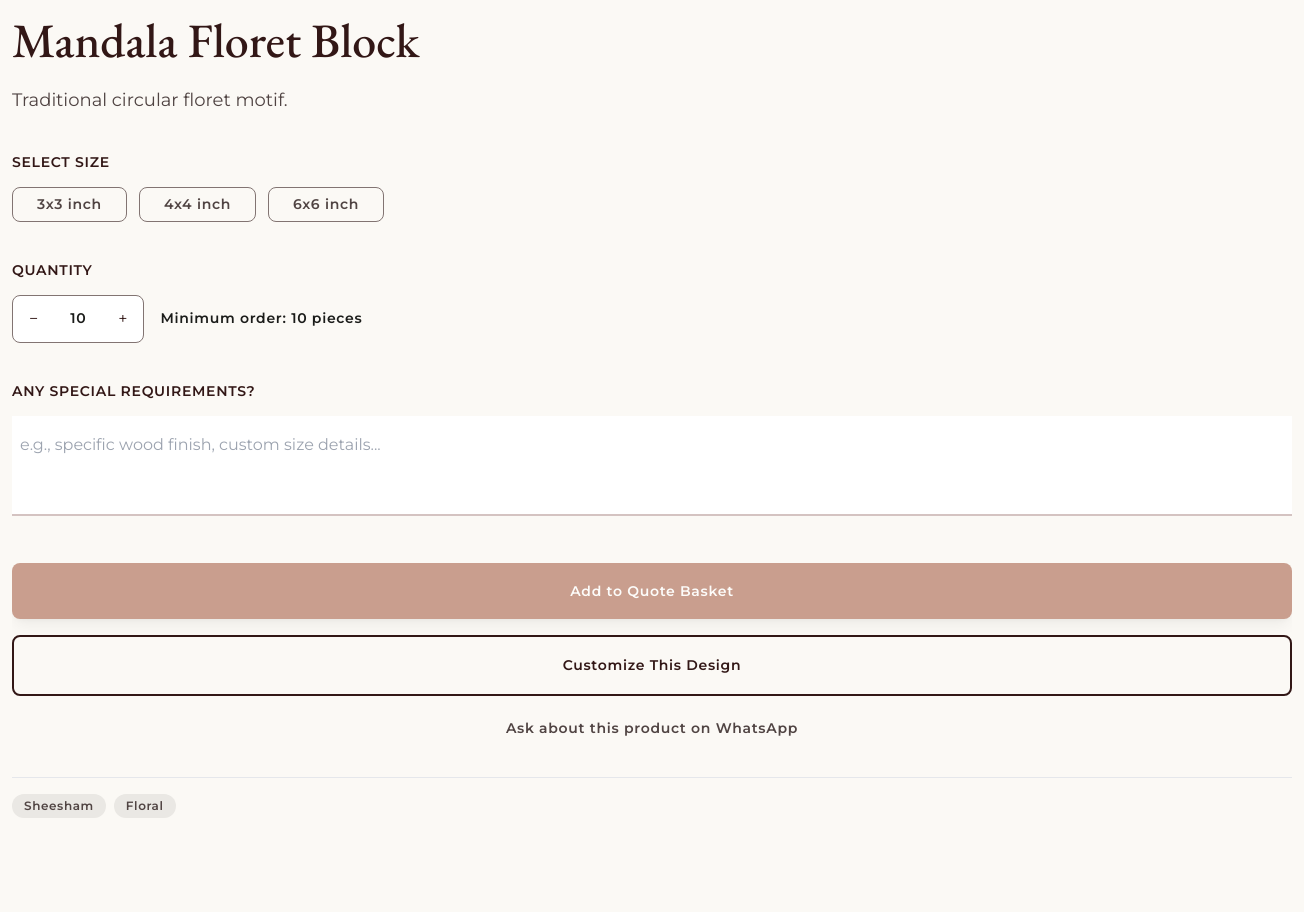
it: ProductInfoPanel › shows confirmation after adding to basket
Click the button "4x4 inch". click: (197, 205)
box: top-left (139, 187), bottom-right (256, 222)
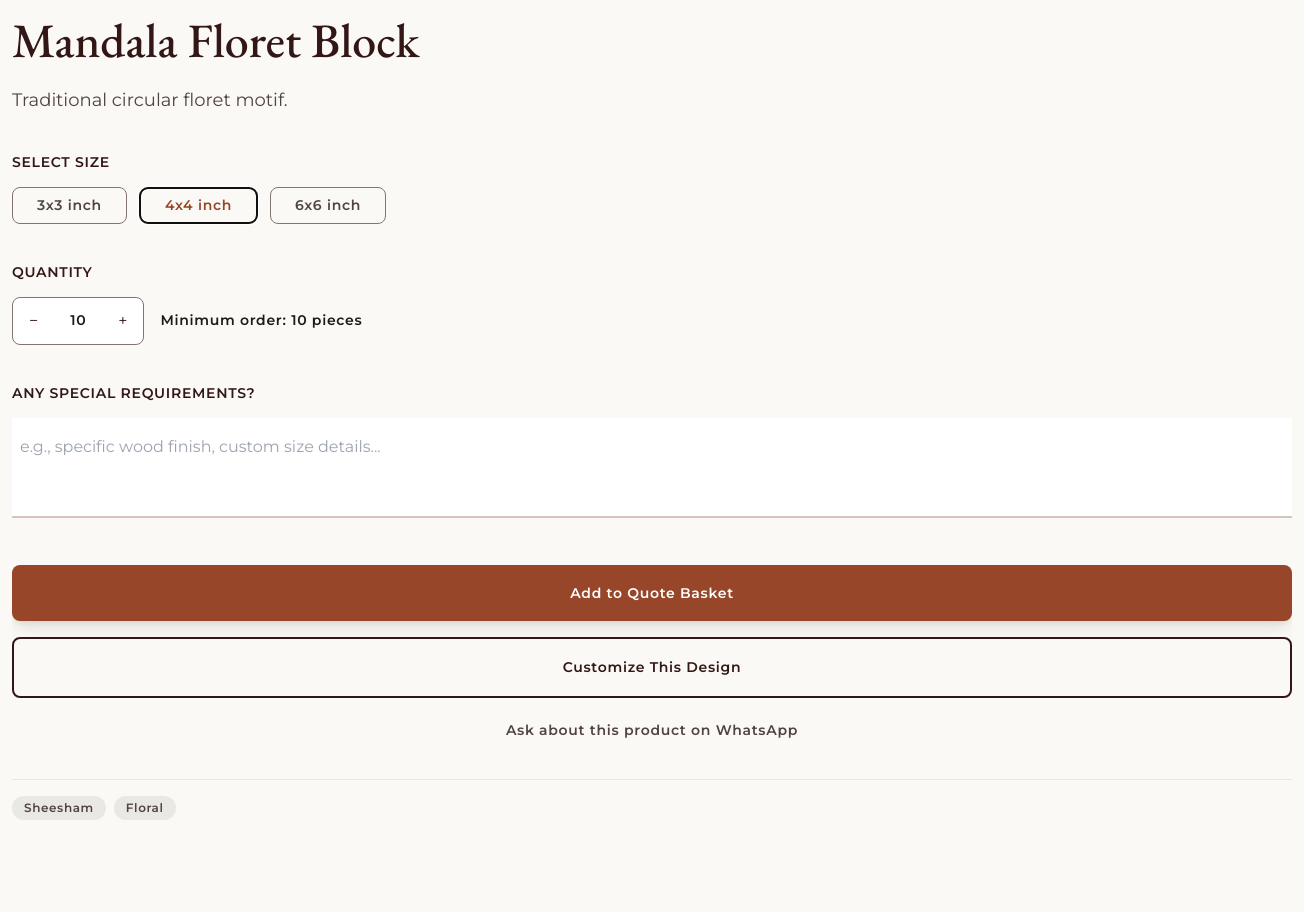
Click the button "Add to Quote Basket". click: (652, 593)
box: top-left (12, 565), bottom-right (1292, 621)
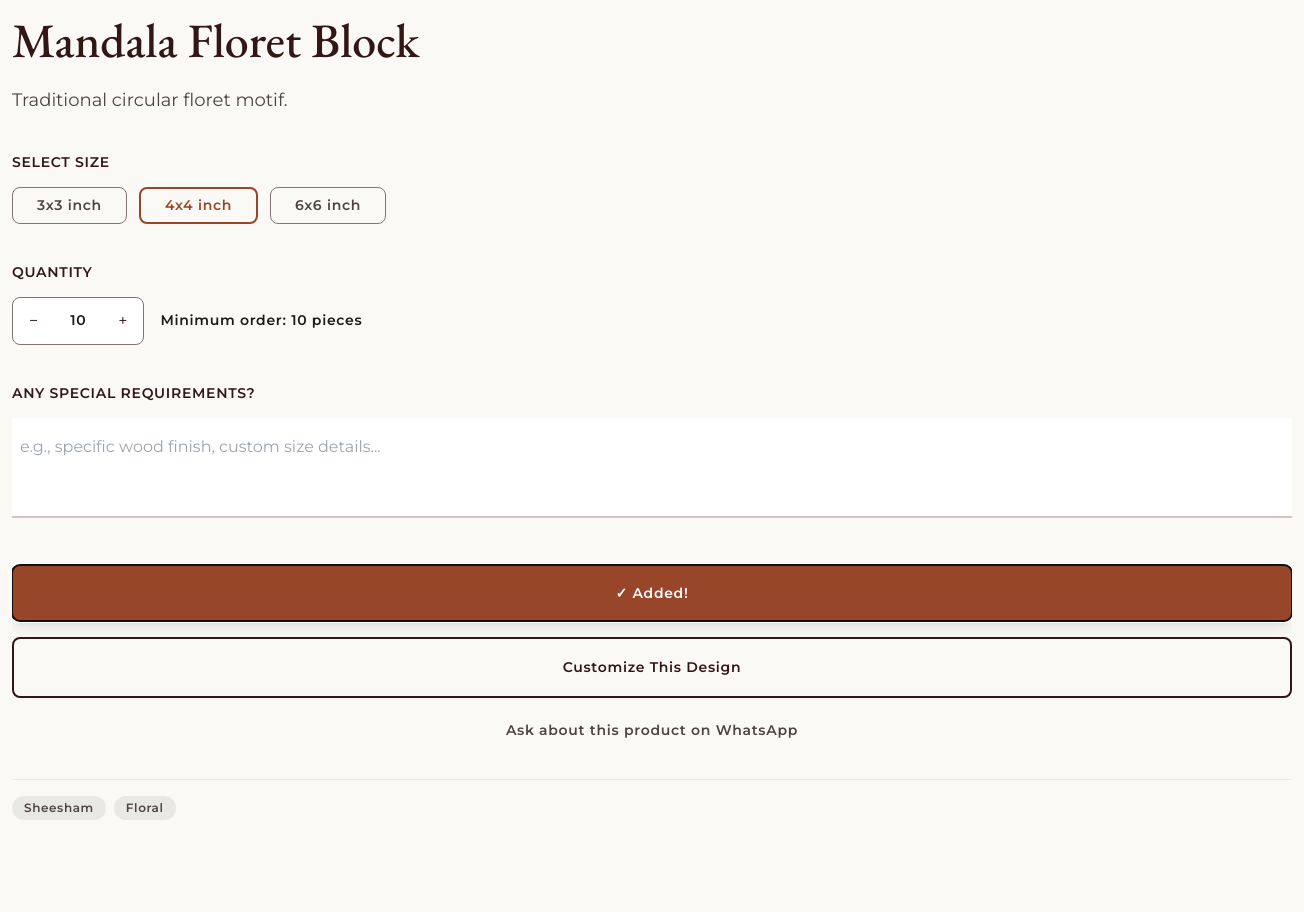
Expected: the button "✓ Added!" is shown, top-left (12, 565), bottom-right (1292, 621)
